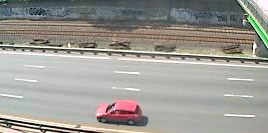car: (94, 98, 147, 127)
